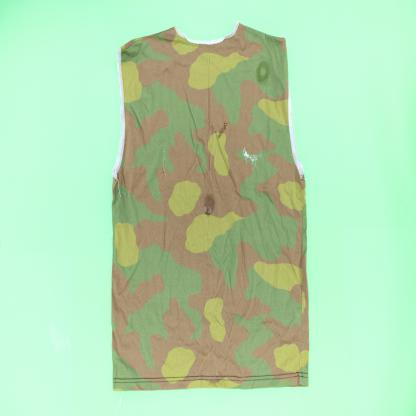stain: (239, 144, 265, 175), (202, 191, 220, 223), (253, 57, 273, 85), (160, 143, 169, 181), (215, 119, 229, 142)
